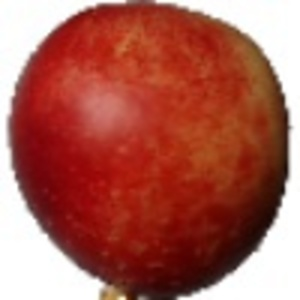nectarina: (6, 1, 292, 300)
